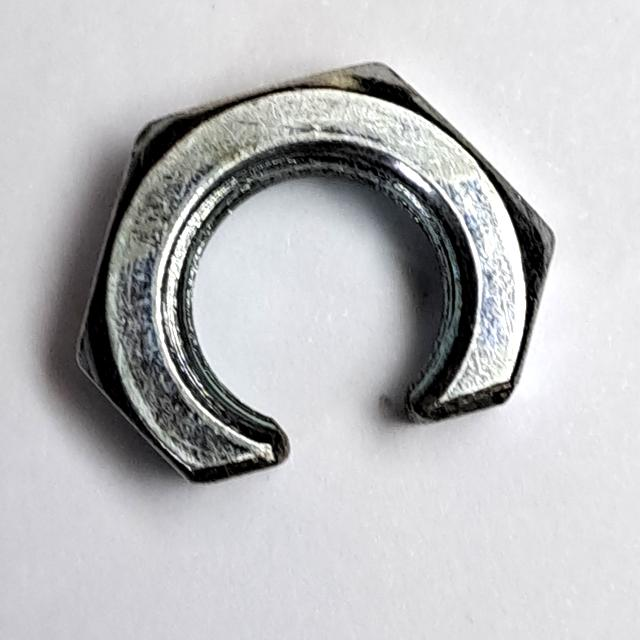Fracture: (68, 45, 569, 502)
